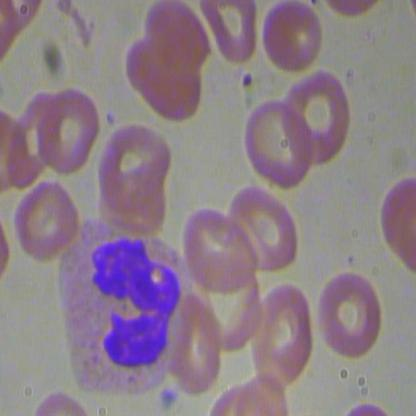RBC: (121, 0, 212, 130), (252, 278, 318, 394), (276, 66, 350, 168), (183, 203, 264, 295), (229, 182, 306, 274), (242, 94, 315, 189), (316, 266, 388, 362), (12, 176, 82, 264), (33, 86, 103, 173), (102, 119, 172, 206), (170, 294, 218, 400), (259, 0, 323, 72), (197, 0, 261, 72), (378, 173, 415, 282)
WBC: (47, 214, 197, 395)
